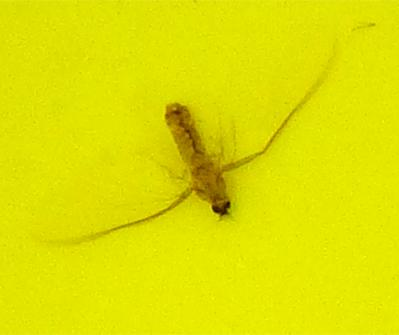Ephemeroptera: (100, 100, 299, 235)
